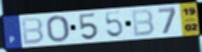5: (103, 11, 125, 39), (77, 13, 99, 41)
7: (157, 6, 179, 36)
B: (20, 17, 46, 46), (131, 9, 156, 38)
O: (45, 15, 71, 44)
